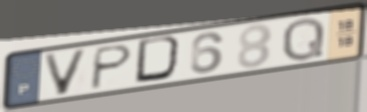6: (189, 31, 227, 75)
8: (234, 21, 276, 71)
D: (132, 34, 187, 86)
P: (87, 43, 136, 92)
Q: (280, 16, 327, 64)
V: (41, 47, 91, 97)
